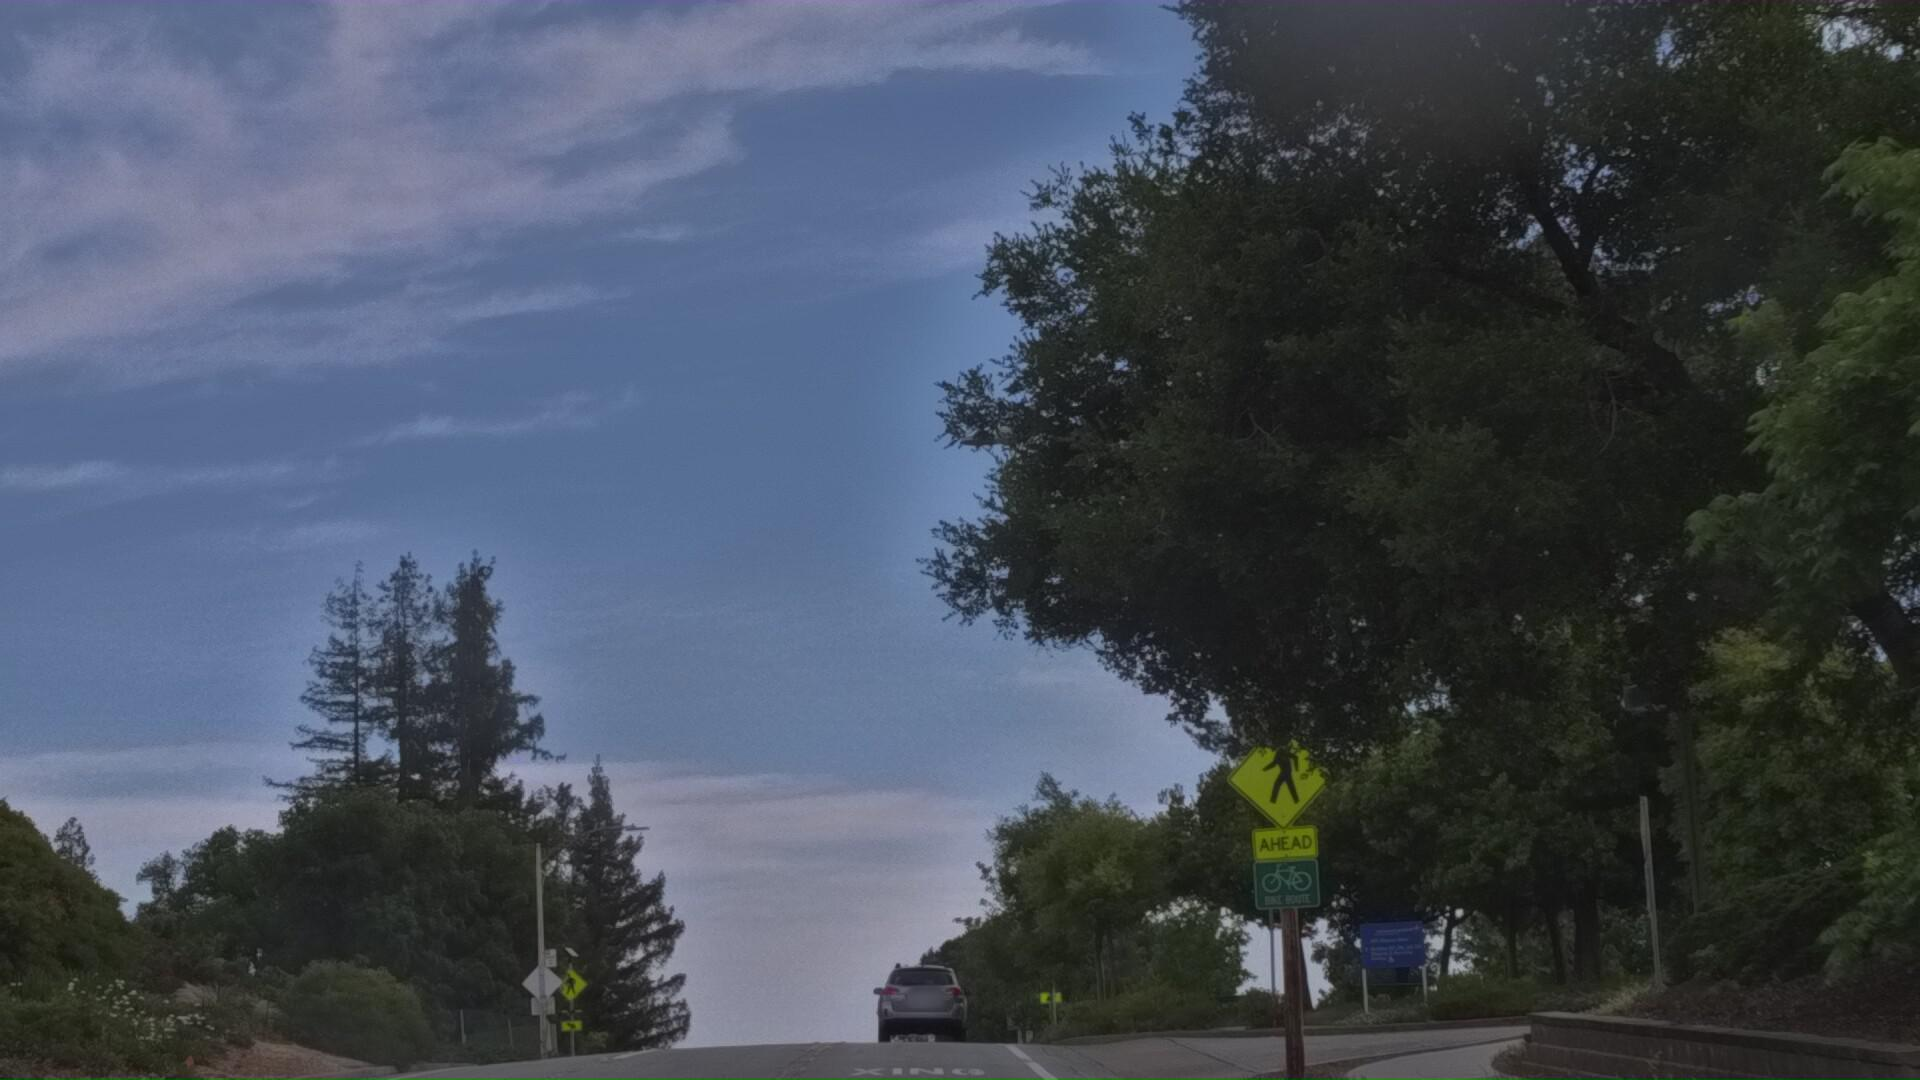car: (873, 957, 980, 1072)
